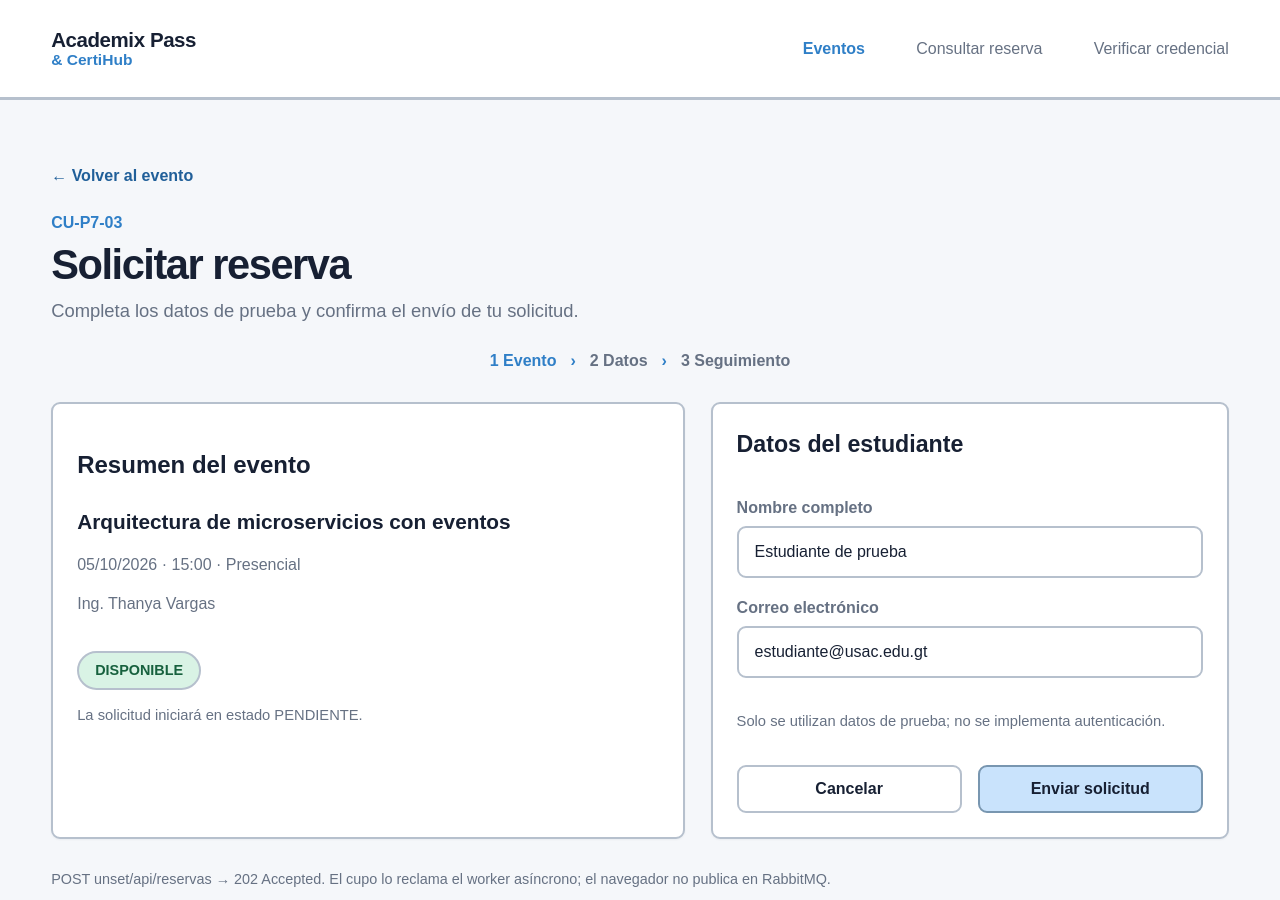
Test: Solicitud de reserva › valida los datos obligatorios
The width and height of the screenshot is (1280, 900).
expect the heading "Datos del estudiante" is shown: met, box [737,431,963,457]
Clear the field labelled "Nombre completo" at (970, 552), box [737,526,1203,578]
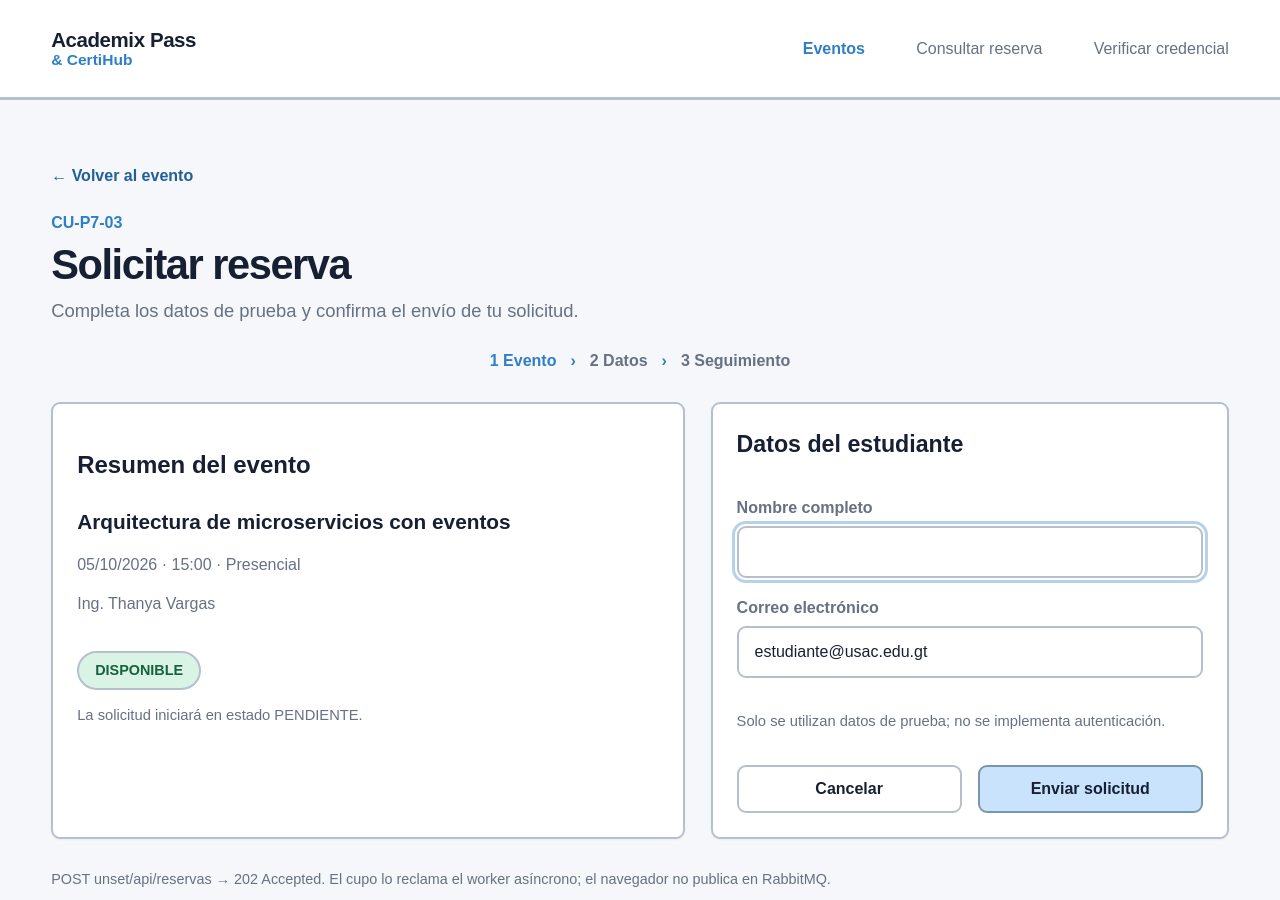
Clear the field labelled "Correo electrónico" at (970, 652), box [737,626,1203,678]
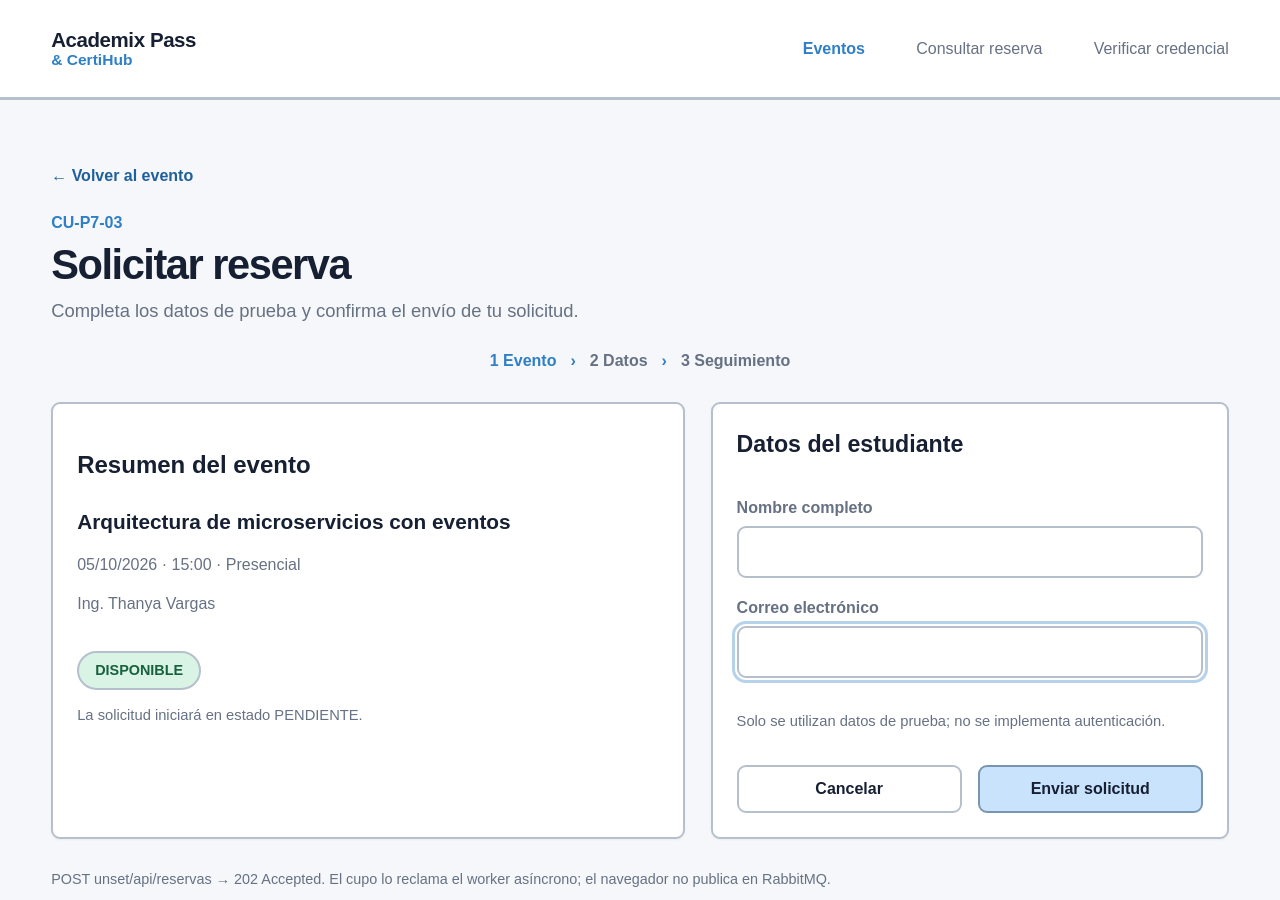
Click the button "Enviar solicitud" at (1090, 789), box [978,765,1203,813]
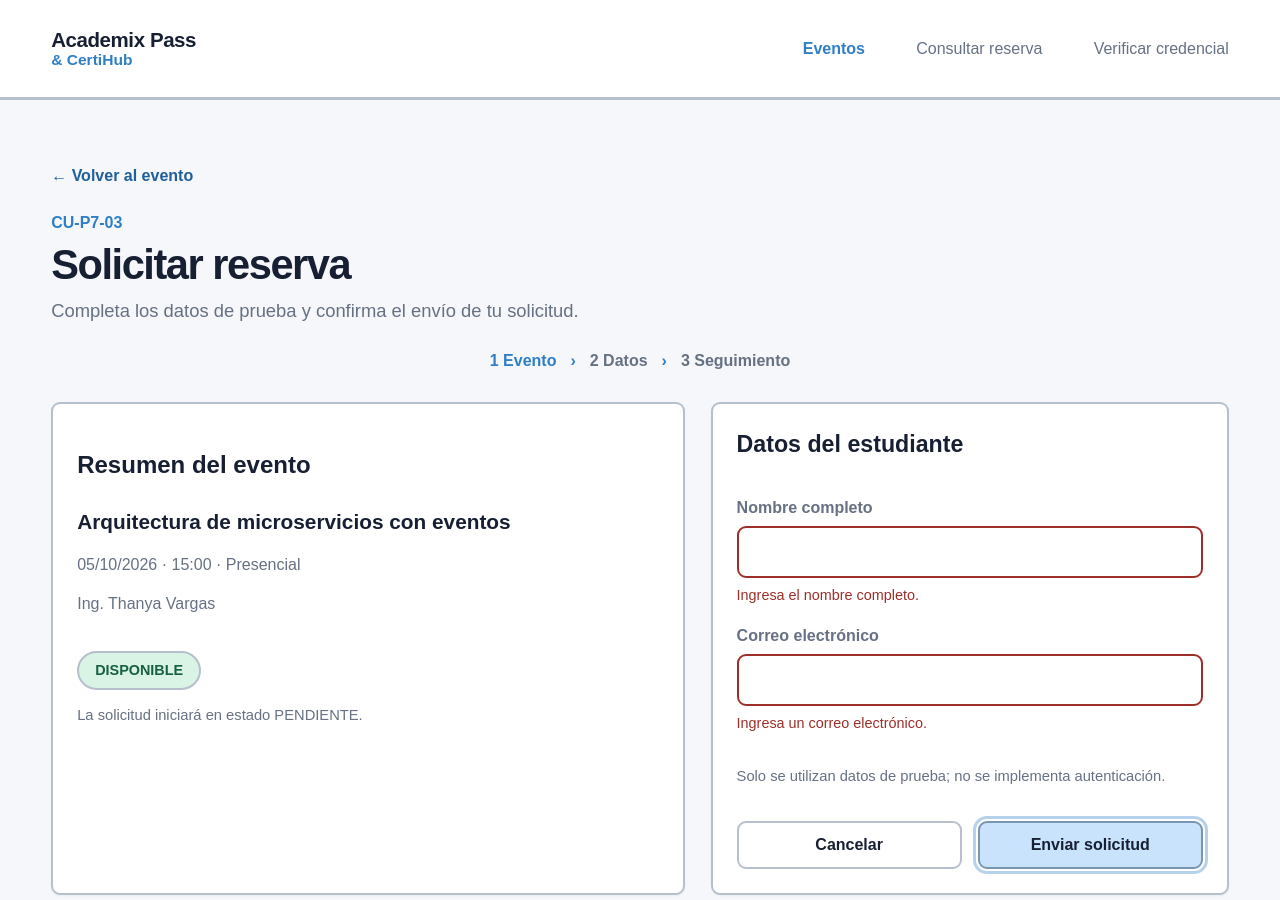
expect the text "Ingresa el nombre completo." is shown: met, box [737,587,919,603]
expect the text "Ingresa un correo electrónico." is shown: met, box [737,715,927,731]
